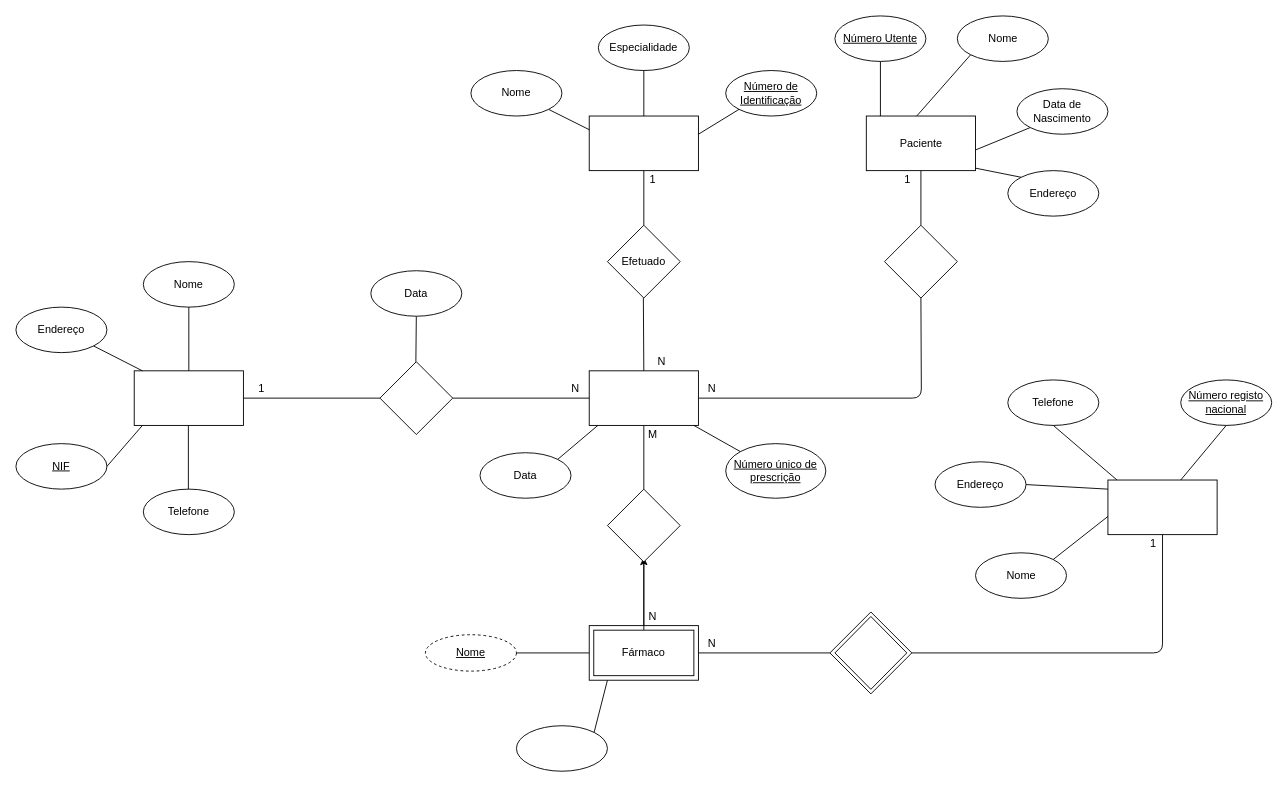
Image size: 1288x787. Some labels were removed from this diagram. The shapes that lost their labels are listed below. From the top down, each one's box as (x1, y1, x2, y2) in pixels, then its label:
(588, 115, 698, 171): Médico
(884, 224, 957, 298): Para um
(133, 370, 243, 425): Farmácia
(379, 361, 453, 435): Processada
(588, 370, 698, 425): Prescrição
(607, 488, 680, 562): tem
(1107, 479, 1217, 535): Farmacêutica
(834, 616, 907, 689): Produzido
(516, 725, 607, 771): Fórmula
